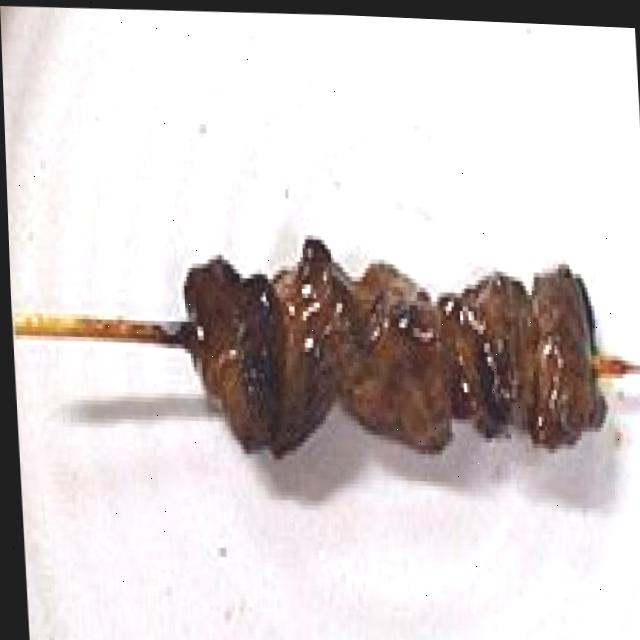烧串烤肉: (6, 193, 640, 496)
